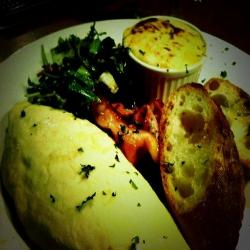bread: (160, 75, 246, 249)
omelette: (6, 103, 189, 250)
salad: (25, 39, 139, 111)
